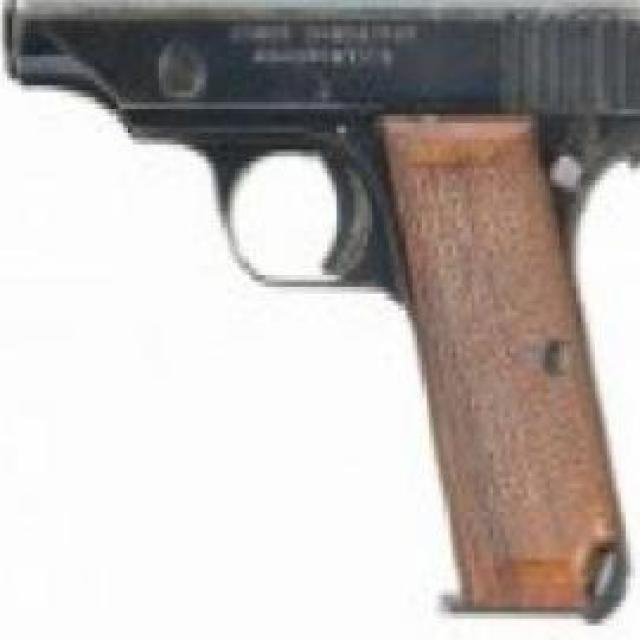pistol: (2, 0, 639, 623)
